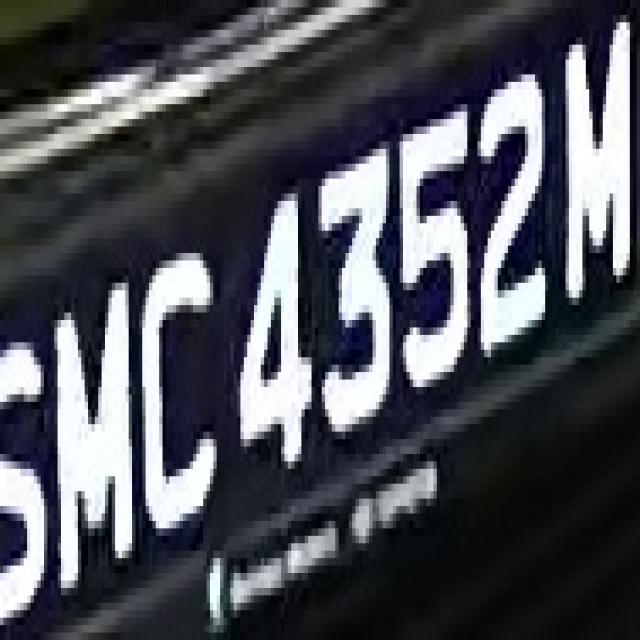2: (470, 67, 566, 380)
3: (308, 119, 403, 461)
4: (224, 149, 325, 476)
5: (386, 97, 474, 394)
C: (128, 231, 224, 558)
M: (48, 253, 146, 595), (545, 8, 630, 312)
